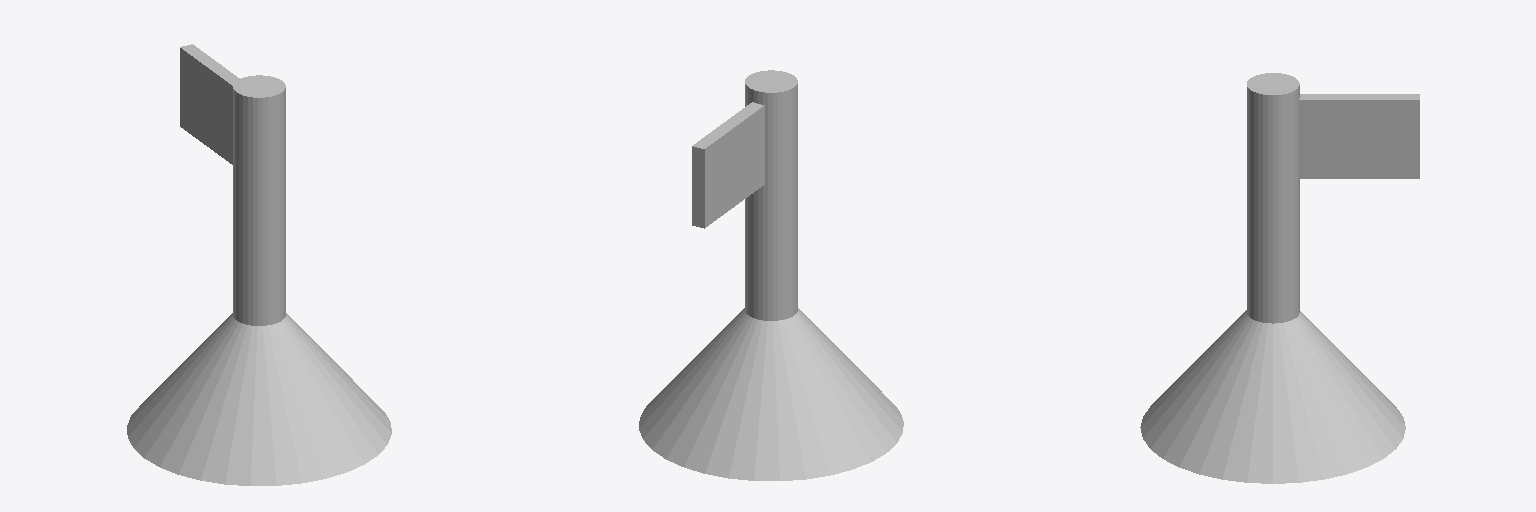
Rendered from flag.obj.
The picture shows the model from 3 angles: view 1: azimuth 30°, elevation 25°; view 2: azimuth 150°, elevation 25°; view 3: azimuth 270°, elevation 25°; orthographic projection.
Visible parts, largest first — view 1: Cone; view 2: Cone; view 3: Cone.
Boxes of the visible parts, <box> form: Cone: <box>127,44,391,485</box>; Cone: <box>639,70,903,480</box>; Cone: <box>1140,73,1419,483</box>.
Size of the model in its own units: 2 by 2.86 by 2.1.